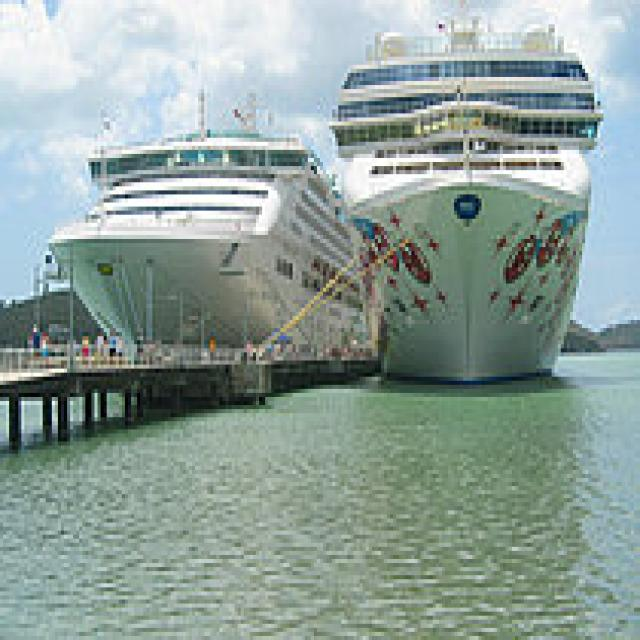Cruise: (323, 0, 607, 385), (43, 77, 381, 369)
